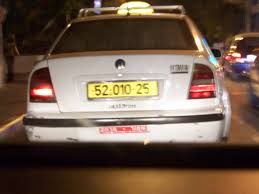licence: (85, 79, 159, 99)
